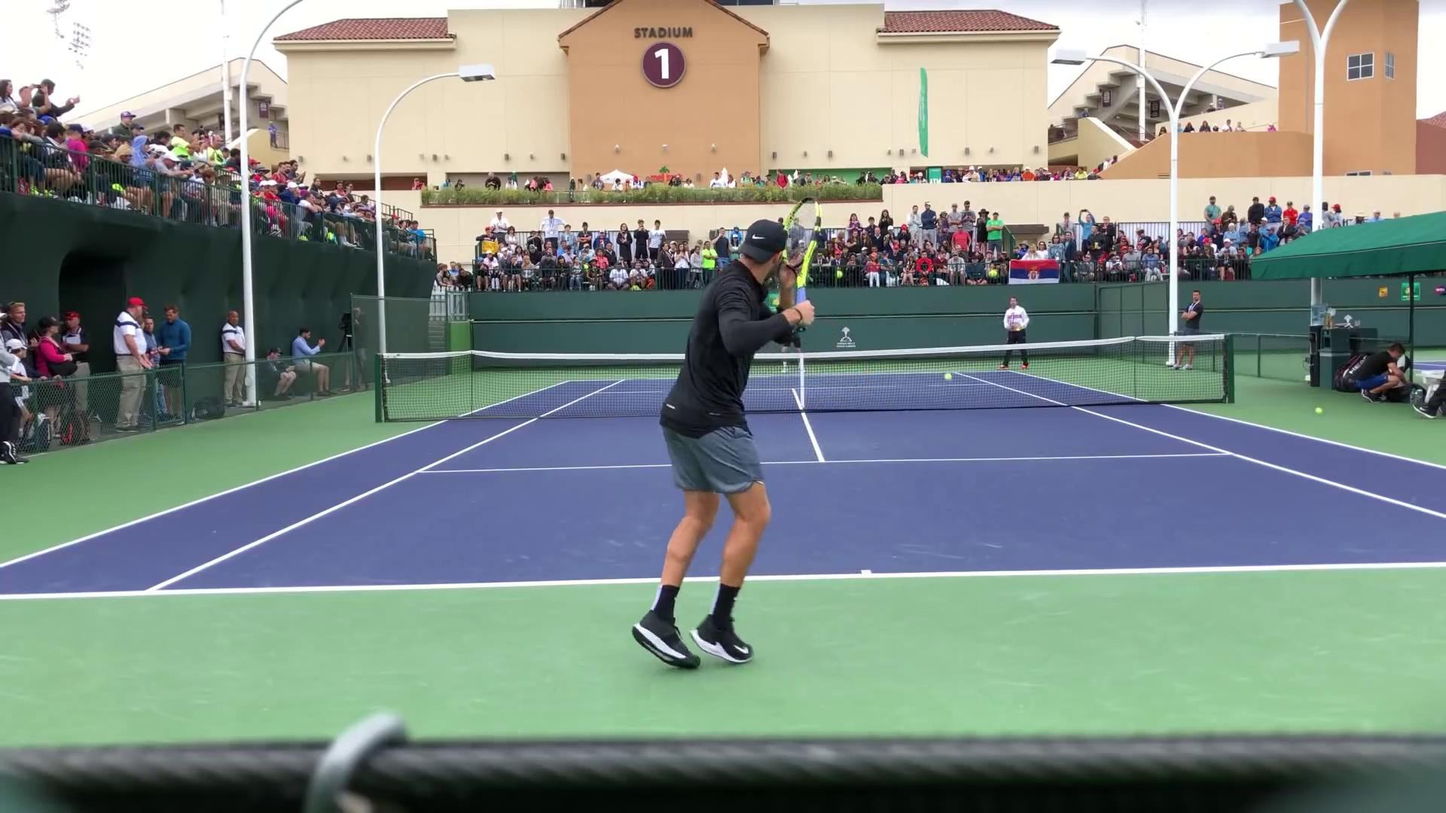ball: (1313, 403, 1324, 417), (943, 373, 952, 381)
